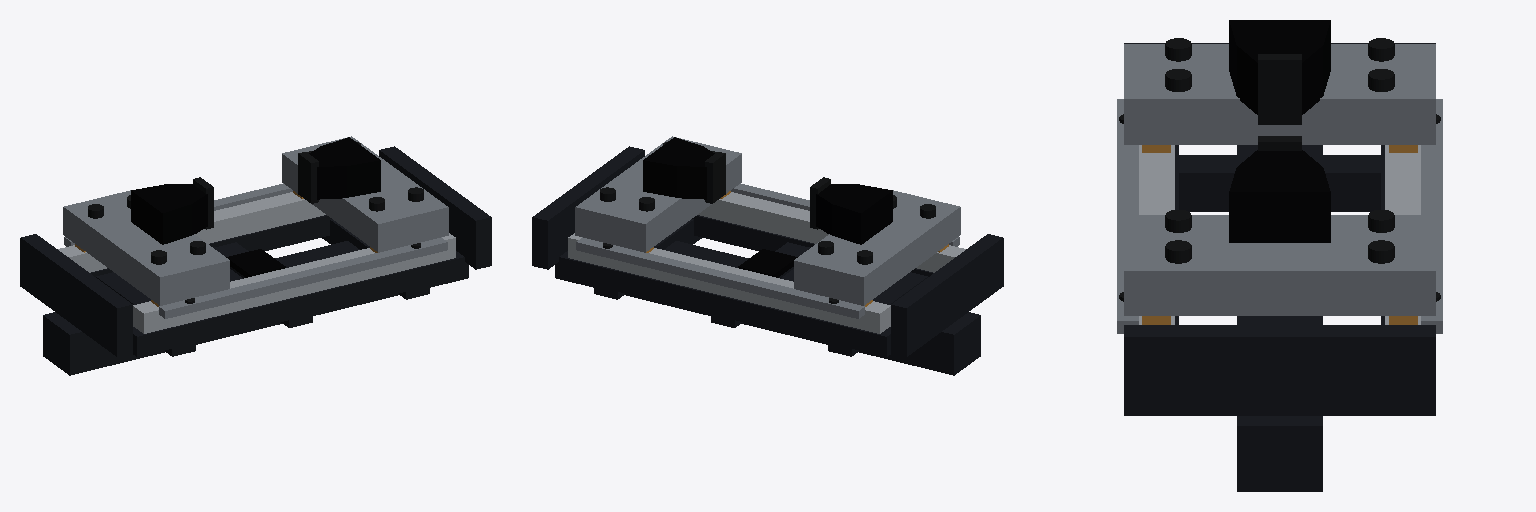
The robot description file, URDF, robot "compact_precision_gripper":
<robot name="compact_precision_gripper">
  <material name="dark_anodized">
    <color rgba="0.12 0.13 0.15 1" />
    </material>
  <material name="matte_black">
    <color rgba="0.035 0.036 0.04 1" />
    </material>
  <material name="ground_steel">
    <color rgba="0.62 0.64 0.66 1" />
    </material>
  <material name="brushed_steel">
    <color rgba="0.48 0.5 0.53 1" />
    </material>
  <material name="bronze_pad">
    <color rgba="0.72 0.52 0.25 1" />
    </material>
  <material name="hardened_tip">
    <color rgba="0.1 0.105 0.11 1" />
    </material>
  <link name="center_body">
    <visual name="backbone">
      <origin xyz="0 0 0.01" rpy="0 0 0" />
      <geometry>
        <box size="0.205 0.024 0.02" />
        </geometry>
      <material name="dark_anodized" />
      </visual>
    <visual name="guide_mount_0">
      <origin xyz="0 -0.034 0.021" rpy="0 0 0" />
      <geometry>
        <box size="0.168 0.012 0.01" />
        </geometry>
      <material name="dark_anodized" />
      </visual>
    <visual name="guide_mount_1">
      <origin xyz="0 0.034 0.021" rpy="0 0 0" />
      <geometry>
        <box size="0.168 0.012 0.01" />
        </geometry>
      <material name="dark_anodized" />
      </visual>
    <visual name="cross_web_0">
      <origin xyz="-0.06 0 0.018" rpy="0 0 0" />
      <geometry>
        <box size="0.012 0.08 0.012" />
        </geometry>
      <material name="dark_anodized" />
      </visual>
    <visual name="cross_web_1">
      <origin xyz="0 0 0.018" rpy="0 0 0" />
      <geometry>
        <box size="0.012 0.08 0.012" />
        </geometry>
      <material name="dark_anodized" />
      </visual>
    <visual name="cross_web_2">
      <origin xyz="0.06 0 0.018" rpy="0 0 0" />
      <geometry>
        <box size="0.012 0.08 0.012" />
        </geometry>
      <material name="dark_anodized" />
      </visual>
    <visual name="work_zone_floor">
      <origin xyz="0 0 0.0255" rpy="0 0 0" />
      <geometry>
        <box size="0.018 0.022 0.003" />
        </geometry>
      <material name="matte_black" />
      </visual>
    <visual name="end_stop_0">
      <origin xyz="-0.092 0 0.032" rpy="0 0 0" />
      <geometry>
        <box size="0.008 0.086 0.024" />
        </geometry>
      <material name="dark_anodized" />
      </visual>
    <visual name="end_stop_1">
      <origin xyz="0.092 0 0.032" rpy="0 0 0" />
      <geometry>
        <box size="0.008 0.086 0.024" />
        </geometry>
      <material name="dark_anodized" />
      </visual>
    <collision name="backbone">
      <origin xyz="0 0 0.01" rpy="0 0 0" />
      <geometry>
        <box size="0.205 0.024 0.02" />
        </geometry>
      </collision>
    <collision name="guide_mount_0">
      <origin xyz="0 -0.034 0.021" rpy="0 0 0" />
      <geometry>
        <box size="0.168 0.012 0.01" />
        </geometry>
      </collision>
    <collision name="guide_mount_1">
      <origin xyz="0 0.034 0.021" rpy="0 0 0" />
      <geometry>
        <box size="0.168 0.012 0.01" />
        </geometry>
      </collision>
    <collision name="cross_web_0">
      <origin xyz="-0.06 0 0.018" rpy="0 0 0" />
      <geometry>
        <box size="0.012 0.08 0.012" />
        </geometry>
      </collision>
    <collision name="cross_web_1">
      <origin xyz="0 0 0.018" rpy="0 0 0" />
      <geometry>
        <box size="0.012 0.08 0.012" />
        </geometry>
      </collision>
    <collision name="cross_web_2">
      <origin xyz="0.06 0 0.018" rpy="0 0 0" />
      <geometry>
        <box size="0.012 0.08 0.012" />
        </geometry>
      </collision>
    <collision name="work_zone_floor">
      <origin xyz="0 0 0.0255" rpy="0 0 0" />
      <geometry>
        <box size="0.018 0.022 0.003" />
        </geometry>
      </collision>
    <collision name="end_stop_0">
      <origin xyz="-0.092 0 0.032" rpy="0 0 0" />
      <geometry>
        <box size="0.008 0.086 0.024" />
        </geometry>
      </collision>
    <collision name="end_stop_1">
      <origin xyz="0.092 0 0.032" rpy="0 0 0" />
      <geometry>
        <box size="0.008 0.086 0.024" />
        </geometry>
      </collision>
    </link>
  <link name="guide_0">
    <visual name="rail">
      <origin xyz="0 0 0.031" rpy="0 0 0" />
      <geometry>
        <box size="0.16 0.01 0.01" />
        </geometry>
      <material name="ground_steel" />
      </visual>
    <visual name="cover">
      <origin xyz="0 -0.008 0.036" rpy="0 0 0" />
      <geometry>
        <box size="0.145 0.006 0.004" />
        </geometry>
      <material name="brushed_steel" />
      </visual>
    <visual name="cover_bolt_0">
      <origin xyz="-0.058 -0.008 0.0383" rpy="0 0 0" />
      <geometry>
        <cylinder radius="0.0023" length="0.0016" />
        </geometry>
      <material name="hardened_tip" />
      </visual>
    <visual name="cover_bolt_1">
      <origin xyz="0.058 -0.008 0.0383" rpy="0 0 0" />
      <geometry>
        <cylinder radius="0.0023" length="0.0016" />
        </geometry>
      <material name="hardened_tip" />
      </visual>
    <collision name="rail">
      <origin xyz="0 0 0.031" rpy="0 0 0" />
      <geometry>
        <box size="0.16 0.01 0.01" />
        </geometry>
      </collision>
    <collision name="cover">
      <origin xyz="0 -0.008 0.036" rpy="0 0 0" />
      <geometry>
        <box size="0.145 0.006 0.004" />
        </geometry>
      </collision>
    <collision name="cover_bolt_0">
      <origin xyz="-0.058 -0.008 0.0383" rpy="0 0 0" />
      <geometry>
        <cylinder radius="0.0023" length="0.0016" />
        </geometry>
      </collision>
    <collision name="cover_bolt_1">
      <origin xyz="0.058 -0.008 0.0383" rpy="0 0 0" />
      <geometry>
        <cylinder radius="0.0023" length="0.0016" />
        </geometry>
      </collision>
    </link>
  <link name="guide_1">
    <visual name="rail">
      <origin xyz="0 0 0.031" rpy="0 0 0" />
      <geometry>
        <box size="0.16 0.01 0.01" />
        </geometry>
      <material name="ground_steel" />
      </visual>
    <visual name="cover">
      <origin xyz="0 0.008 0.036" rpy="0 0 0" />
      <geometry>
        <box size="0.145 0.006 0.004" />
        </geometry>
      <material name="brushed_steel" />
      </visual>
    <visual name="cover_bolt_0">
      <origin xyz="-0.058 0.008 0.0383" rpy="0 0 0" />
      <geometry>
        <cylinder radius="0.0023" length="0.0016" />
        </geometry>
      <material name="hardened_tip" />
      </visual>
    <visual name="cover_bolt_1">
      <origin xyz="0.058 0.008 0.0383" rpy="0 0 0" />
      <geometry>
        <cylinder radius="0.0023" length="0.0016" />
        </geometry>
      <material name="hardened_tip" />
      </visual>
    <collision name="rail">
      <origin xyz="0 0 0.031" rpy="0 0 0" />
      <geometry>
        <box size="0.16 0.01 0.01" />
        </geometry>
      </collision>
    <collision name="cover">
      <origin xyz="0 0.008 0.036" rpy="0 0 0" />
      <geometry>
        <box size="0.145 0.006 0.004" />
        </geometry>
      </collision>
    <collision name="cover_bolt_0">
      <origin xyz="-0.058 0.008 0.0383" rpy="0 0 0" />
      <geometry>
        <cylinder radius="0.0023" length="0.0016" />
        </geometry>
      </collision>
    <collision name="cover_bolt_1">
      <origin xyz="0.058 0.008 0.0383" rpy="0 0 0" />
      <geometry>
        <cylinder radius="0.0023" length="0.0016" />
        </geometry>
      </collision>
    </link>
  <link name="jaw_slider_0">
    <visual name="carriage_shoe">
      <origin xyz="0 0 0.047" rpy="0 0 0" />
      <geometry>
        <box size="0.036 0.086 0.014" />
        </geometry>
      <material name="brushed_steel" />
      </visual>
    <visual name="slide_pad_0">
      <origin xyz="0 -0.034 0.038" rpy="0 0 0" />
      <geometry>
        <box size="0.03 0.008 0.004" />
        </geometry>
      <material name="bronze_pad" />
      </visual>
    <visual name="slide_pad_1">
      <origin xyz="0 0.034 0.038" rpy="0 0 0" />
      <geometry>
        <box size="0.03 0.008 0.004" />
        </geometry>
      <material name="bronze_pad" />
      </visual>
    <visual name="tapered_jaw">
      <origin xyz="0 0 0.0615" rpy="0 0 0" />
      <geometry>
        <mesh filename="assets/meshes/jaw_taper_0.obj" />
        </geometry>
      <material name="matte_black" />
      </visual>
    <visual name="tip_pad">
      <origin xyz="0.029 0 0.062" rpy="0 0 0" />
      <geometry>
        <box size="0.004 0.012 0.02" />
        </geometry>
      <material name="hardened_tip" />
      </visual>
    <visual name="shoulder_bolt_0">
      <origin xyz="-0.01 -0.028 0.0558" rpy="0 0 0" />
      <geometry>
        <cylinder radius="0.0036" length="0.004" />
        </geometry>
      <material name="hardened_tip" />
      </visual>
    <visual name="shoulder_bolt_1">
      <origin xyz="-0.01 0.028 0.0558" rpy="0 0 0" />
      <geometry>
        <cylinder radius="0.0036" length="0.004" />
        </geometry>
      <material name="hardened_tip" />
      </visual>
    <visual name="shoulder_bolt_2">
      <origin xyz="0.01 -0.028 0.0558" rpy="0 0 0" />
      <geometry>
        <cylinder radius="0.0036" length="0.004" />
        </geometry>
      <material name="hardened_tip" />
      </visual>
    <visual name="shoulder_bolt_3">
      <origin xyz="0.01 0.028 0.0558" rpy="0 0 0" />
      <geometry>
        <cylinder radius="0.0036" length="0.004" />
        </geometry>
      <material name="hardened_tip" />
      </visual>
    <collision name="carriage_shoe">
      <origin xyz="0 0 0.047" rpy="0 0 0" />
      <geometry>
        <box size="0.036 0.086 0.014" />
        </geometry>
      </collision>
    <collision name="slide_pad_0">
      <origin xyz="0 -0.034 0.038" rpy="0 0 0" />
      <geometry>
        <box size="0.03 0.008 0.004" />
        </geometry>
      </collision>
    <collision name="slide_pad_1">
      <origin xyz="0 0.034 0.038" rpy="0 0 0" />
      <geometry>
        <box size="0.03 0.008 0.004" />
        </geometry>
      </collision>
    <collision name="tapered_jaw">
      <origin xyz="0 0 0.0615" rpy="0 0 0" />
      <geometry>
        <mesh filename="assets/meshes/jaw_taper_0.obj" />
        </geometry>
      </collision>
    <collision name="tip_pad">
      <origin xyz="0.029 0 0.062" rpy="0 0 0" />
      <geometry>
        <box size="0.004 0.012 0.02" />
        </geometry>
      </collision>
    <collision name="shoulder_bolt_0">
      <origin xyz="-0.01 -0.028 0.0558" rpy="0 0 0" />
      <geometry>
        <cylinder radius="0.0036" length="0.004" />
        </geometry>
      </collision>
    <collision name="shoulder_bolt_1">
      <origin xyz="-0.01 0.028 0.0558" rpy="0 0 0" />
      <geometry>
        <cylinder radius="0.0036" length="0.004" />
        </geometry>
      </collision>
    <collision name="shoulder_bolt_2">
      <origin xyz="0.01 -0.028 0.0558" rpy="0 0 0" />
      <geometry>
        <cylinder radius="0.0036" length="0.004" />
        </geometry>
      </collision>
    <collision name="shoulder_bolt_3">
      <origin xyz="0.01 0.028 0.0558" rpy="0 0 0" />
      <geometry>
        <cylinder radius="0.0036" length="0.004" />
        </geometry>
      </collision>
    </link>
  <link name="jaw_slider_1">
    <visual name="carriage_shoe">
      <origin xyz="0 0 0.047" rpy="0 0 0" />
      <geometry>
        <box size="0.036 0.086 0.014" />
        </geometry>
      <material name="brushed_steel" />
      </visual>
    <visual name="slide_pad_0">
      <origin xyz="0 -0.034 0.038" rpy="0 0 0" />
      <geometry>
        <box size="0.03 0.008 0.004" />
        </geometry>
      <material name="bronze_pad" />
      </visual>
    <visual name="slide_pad_1">
      <origin xyz="0 0.034 0.038" rpy="0 0 0" />
      <geometry>
        <box size="0.03 0.008 0.004" />
        </geometry>
      <material name="bronze_pad" />
      </visual>
    <visual name="tapered_jaw">
      <origin xyz="0 0 0.0615" rpy="0 0 0" />
      <geometry>
        <mesh filename="assets/meshes/jaw_taper_1.obj" />
        </geometry>
      <material name="matte_black" />
      </visual>
    <visual name="tip_pad">
      <origin xyz="-0.029 0 0.062" rpy="0 0 0" />
      <geometry>
        <box size="0.004 0.012 0.02" />
        </geometry>
      <material name="hardened_tip" />
      </visual>
    <visual name="shoulder_bolt_0">
      <origin xyz="-0.01 -0.028 0.0558" rpy="0 0 0" />
      <geometry>
        <cylinder radius="0.0036" length="0.004" />
        </geometry>
      <material name="hardened_tip" />
      </visual>
    <visual name="shoulder_bolt_1">
      <origin xyz="-0.01 0.028 0.0558" rpy="0 0 0" />
      <geometry>
        <cylinder radius="0.0036" length="0.004" />
        </geometry>
      <material name="hardened_tip" />
      </visual>
    <visual name="shoulder_bolt_2">
      <origin xyz="0.01 -0.028 0.0558" rpy="0 0 0" />
      <geometry>
        <cylinder radius="0.0036" length="0.004" />
        </geometry>
      <material name="hardened_tip" />
      </visual>
    <visual name="shoulder_bolt_3">
      <origin xyz="0.01 0.028 0.0558" rpy="0 0 0" />
      <geometry>
        <cylinder radius="0.0036" length="0.004" />
        </geometry>
      <material name="hardened_tip" />
      </visual>
    <collision name="carriage_shoe">
      <origin xyz="0 0 0.047" rpy="0 0 0" />
      <geometry>
        <box size="0.036 0.086 0.014" />
        </geometry>
      </collision>
    <collision name="slide_pad_0">
      <origin xyz="0 -0.034 0.038" rpy="0 0 0" />
      <geometry>
        <box size="0.03 0.008 0.004" />
        </geometry>
      </collision>
    <collision name="slide_pad_1">
      <origin xyz="0 0.034 0.038" rpy="0 0 0" />
      <geometry>
        <box size="0.03 0.008 0.004" />
        </geometry>
      </collision>
    <collision name="tapered_jaw">
      <origin xyz="0 0 0.0615" rpy="0 0 0" />
      <geometry>
        <mesh filename="assets/meshes/jaw_taper_1.obj" />
        </geometry>
      </collision>
    <collision name="tip_pad">
      <origin xyz="-0.029 0 0.062" rpy="0 0 0" />
      <geometry>
        <box size="0.004 0.012 0.02" />
        </geometry>
      </collision>
    <collision name="shoulder_bolt_0">
      <origin xyz="-0.01 -0.028 0.0558" rpy="0 0 0" />
      <geometry>
        <cylinder radius="0.0036" length="0.004" />
        </geometry>
      </collision>
    <collision name="shoulder_bolt_1">
      <origin xyz="-0.01 0.028 0.0558" rpy="0 0 0" />
      <geometry>
        <cylinder radius="0.0036" length="0.004" />
        </geometry>
      </collision>
    <collision name="shoulder_bolt_2">
      <origin xyz="0.01 -0.028 0.0558" rpy="0 0 0" />
      <geometry>
        <cylinder radius="0.0036" length="0.004" />
        </geometry>
      </collision>
    <collision name="shoulder_bolt_3">
      <origin xyz="0.01 0.028 0.0558" rpy="0 0 0" />
      <geometry>
        <cylinder radius="0.0036" length="0.004" />
        </geometry>
      </collision>
    </link>
  <joint name="body_to_guide_0" type="fixed">
    <origin xyz="0 -0.034 0" rpy="0 0 0" />
    <parent link="center_body" />
    <child link="guide_0" />
    </joint>
  <joint name="body_to_guide_1" type="fixed">
    <origin xyz="0 0.034 0" rpy="0 0 0" />
    <parent link="center_body" />
    <child link="guide_1" />
    </joint>
  <joint name="body_to_jaw_slider_0" type="prismatic">
    <origin xyz="-0.056 0 0" rpy="0 0 0" />
    <parent link="center_body" />
    <child link="jaw_slider_0" />
    <axis xyz="1 0 0" />
    <limit effort="70" velocity="0.18" lower="0" upper="0.024" />
    </joint>
  <joint name="body_to_jaw_slider_1" type="prismatic">
    <origin xyz="0.056 0 0" rpy="0 0 0" />
    <parent link="center_body" />
    <child link="jaw_slider_1" />
    <axis xyz="-1 0 0" />
    <limit effort="70" velocity="0.18" lower="0" upper="0.024" />
    </joint>
  </robot>

--- Facts derived from the render (not from the file) ---
The picture shows the robot from 3 angles, left to right: view 1: azimuth 30°, elevation 25°; view 2: azimuth 150°, elevation 25°; view 3: azimuth 270°, elevation 25°; orthographic projection.
Robot: compact_precision_gripper — 5 links, 4 joints (2 prismatic, 2 fixed); root link center_body; default pose: every joint at zero.
Links seen in each view (by area): view 1: center_body, jaw_slider_0, jaw_slider_1, guide_0, guide_1; view 2: center_body, jaw_slider_0, jaw_slider_1, guide_1, guide_0; view 3: center_body, jaw_slider_1, jaw_slider_0, guide_0, guide_1.
Link boxes in pixels (box(x1,y1,x2,y2)): center_body: box(20, 146, 491, 375); jaw_slider_0: box(63, 177, 229, 306); jaw_slider_1: box(282, 136, 448, 252); guide_0: box(133, 233, 455, 333); guide_1: box(58, 183, 325, 272); center_body: box(532, 146, 1003, 375); jaw_slider_0: box(794, 177, 960, 306); jaw_slider_1: box(575, 136, 741, 252); guide_1: box(568, 233, 890, 333); guide_0: box(698, 183, 965, 272); center_body: box(1124, 43, 1435, 491); jaw_slider_1: box(1124, 136, 1435, 324); jaw_slider_0: box(1124, 20, 1435, 152); guide_0: box(1117, 99, 1174, 333); guide_1: box(1385, 99, 1442, 333).
Bounding box of the posed robot: 0.205 × 0.09 × 0.072 m (x, y, z).
Meshes: 2 distinct files referenced, 2 mesh visuals loaded (2 OBJ).
